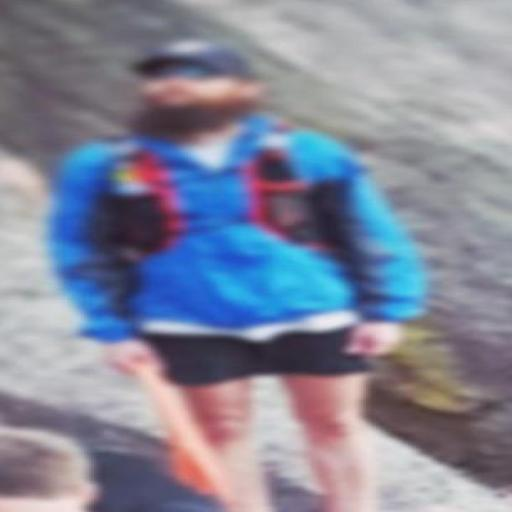person: (51, 41, 424, 511), (0, 426, 219, 511), (0, 427, 97, 511)
